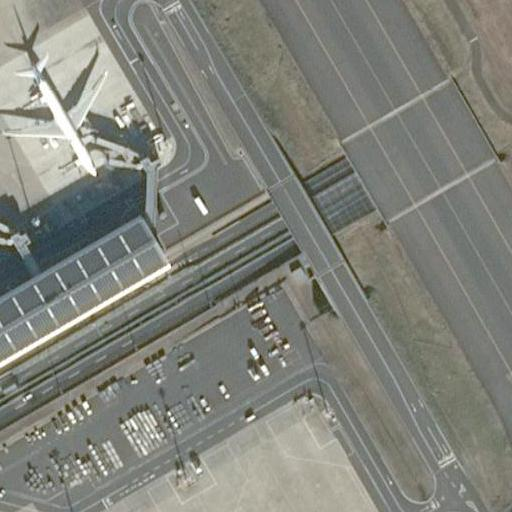Aircraft: (0, 43, 112, 178)
